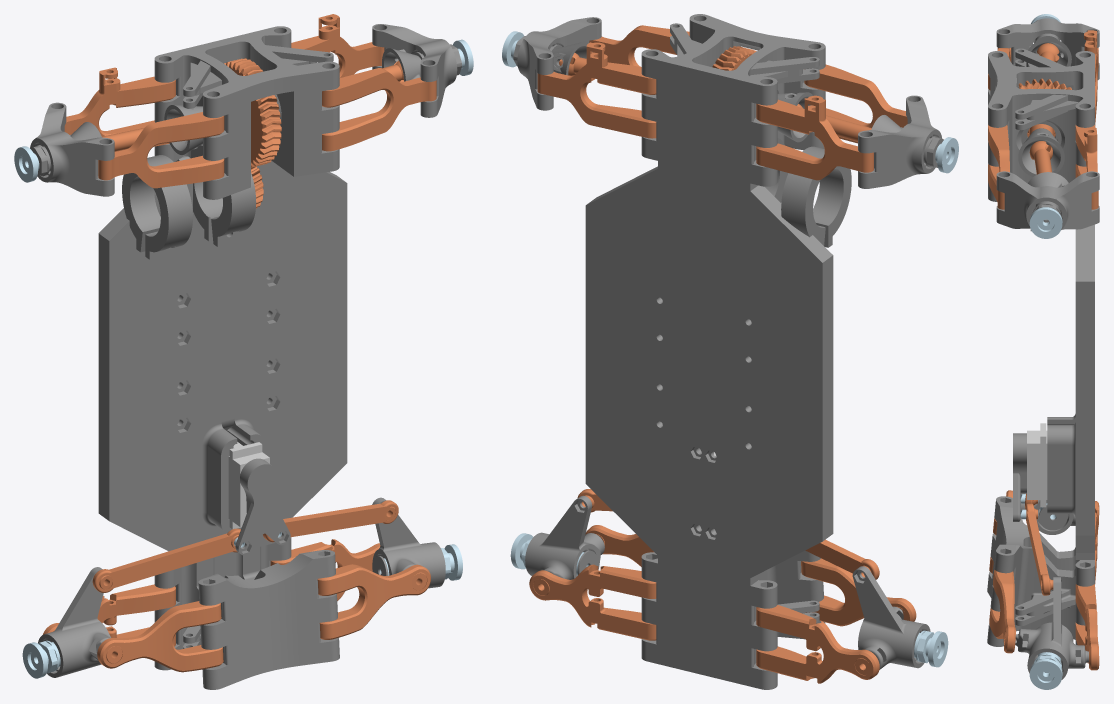
The model's file is rc-vehicle.glb.
3 views of the same model, side by side, from view 1: azimuth 30°, elevation 25°; view 2: azimuth 150°, elevation 25°; view 3: azimuth 270°, elevation 25° (orthographic). The views are drawn at different scales.
Visible parts, largest first — view 1: Part 1 (×14), front end v1 (×2), RU fork (×2), FU fork (×2), motor clip 2, FL fork (×2), RL fork, motor clip 1, FL hub, Spur gear (40 teeth); view 2: Part 1 (×10), front end v1 (×2), FL fork (×2), RL fork, RU fork (×2), motor clip 2, FU fork (×2), FL hub; view 3: Part 1 (×18), front end v1 (×2), FL hub, FL fork (×2), FU fork, RU fork, RL fork, Spur gear (40 teeth).
Boxes of the visible parts, x1,y1,x2,y2 form: Part 1 (×14): (14,14,457,678); front end v1 (×2): (98,323,347,689); RU fork (×2): (98,68,436,188); FU fork (×2): (97,564,430,672); motor clip 2: (122,155,192,259); FL fork (×2): (43,539,380,646); RL fork: (64,67,175,151); motor clip 1: (191,144,256,246); FL hub: (372,497,445,588); Spur gear (40 teeth): (224,58,281,167); Part 1 (×10): (517,14,942,669); front end v1 (×2): (585,344,833,689); FL fork (×2): (529,564,879,683); RL fork: (756,95,873,180); RU fork (×2): (589,25,907,143); motor clip 2: (781,146,851,247); FU fork (×2): (585,525,916,626); FL hub: (525,495,604,579); Part 1 (×18): (988,18,1099,689); front end v1 (×2): (987,408,1094,646); FL hub: (1015,577,1088,679); FL fork (×2): (1075,501,1099,670); FU fork: (989,569,1015,653); RU fork: (988,125,1009,209); RL fork: (1084,30,1098,125); Spur gear (40 teeth): (1018,78,1071,137).
Bounding box in the file's own units: 0.2975 × 0.39 × 0.0723.
